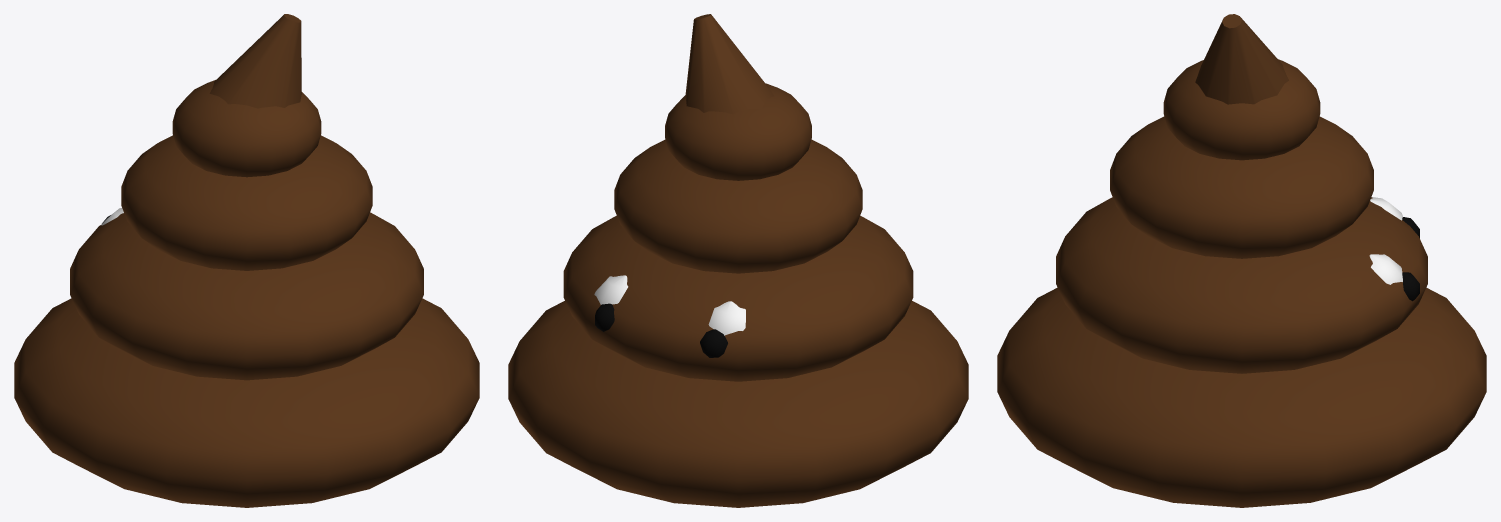
The model's file is PoopPile.obj.
3 renders of one model, left to right at view 1: azimuth 30°, elevation 25°; view 2: azimuth 150°, elevation 25°; view 3: azimuth 270°, elevation 25°, orthographic. The views are drawn at different scales.
Bounding box in the file's own units: 0.1 × 0.1024 × 0.0985.
